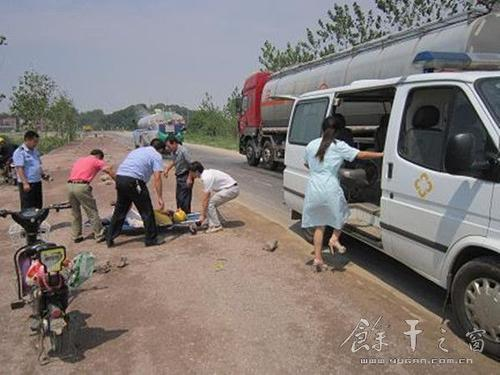Fall-Detected: (75, 193, 199, 246)
